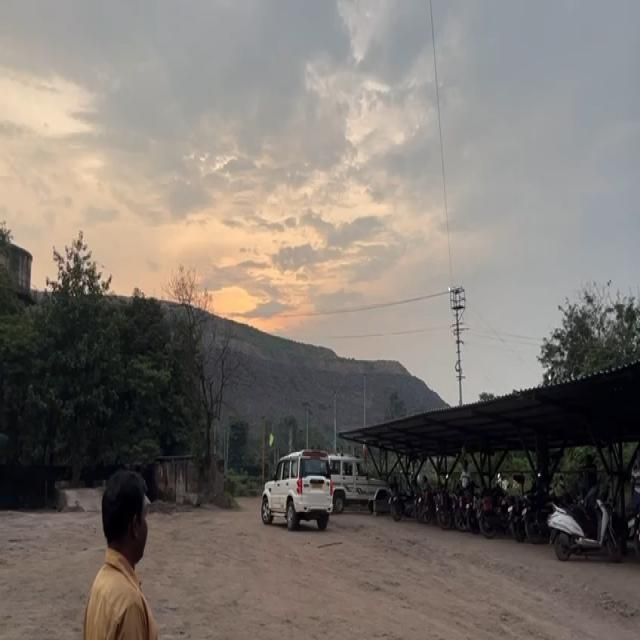light_vehicle: (259, 451, 332, 526), (332, 456, 384, 514)
